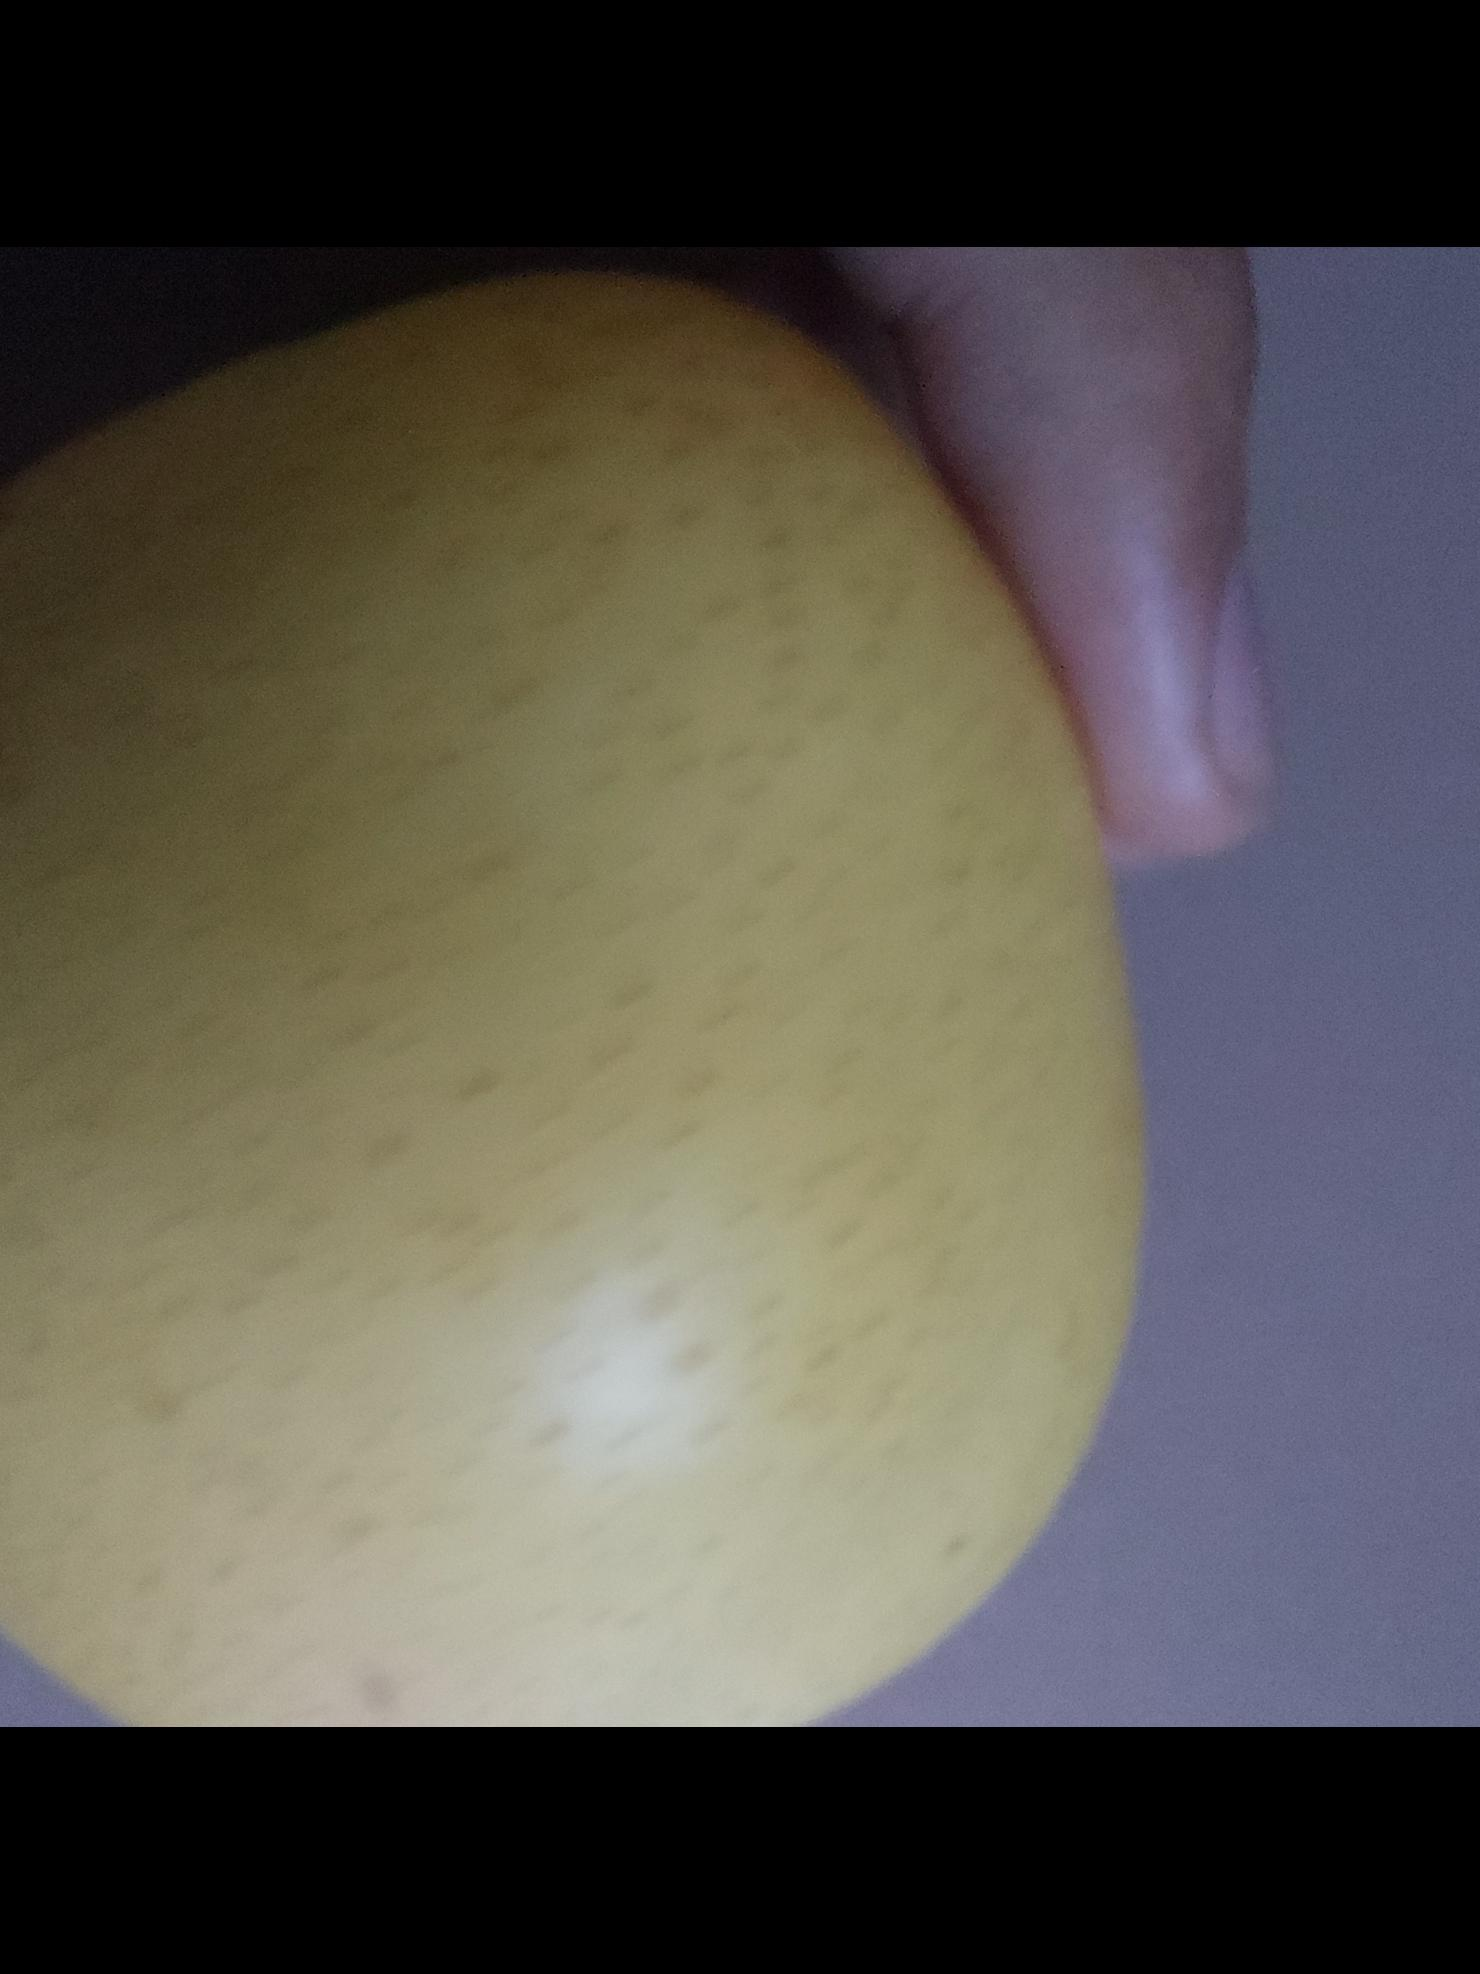Good Pear: (0, 277, 1143, 1727)
